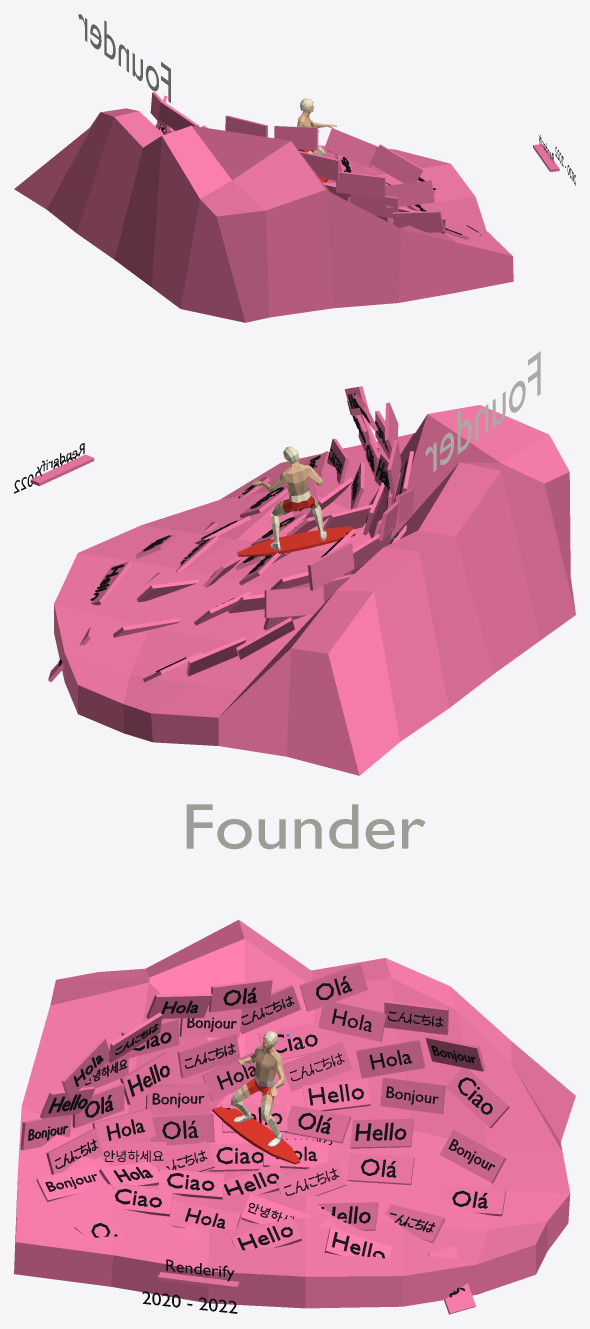
Rendered from preply.glb.
3 views of the same model, one above another, from view 1: azimuth 30°, elevation 25°; view 2: azimuth 150°, elevation 25°; view 3: azimuth 270°, elevation 25° (orthographic). The views are drawn at different scales.
Parts seen in each view (by area): view 1: Cube.001, Text.001, Text.020, Text.003, Cube.035, Cube.010, Cube.025, Text.027, Text.008, Cube.013, Text.009, male.004 (+1 smaller); view 2: Cube.001, male.004, Text.001, Cube.022, Cube, Text.024, Cube.024, Cube.017, Text.004, Cube.015, Text.002, Cube.005 (+2 smaller); view 3: Cube.001, Text.001, male.004, Text.022, Text.006, Text.002, Cube.004, Text.010, Text.013, Cube.020, Cube.009, Cube.017 (+45 smaller).
Part boxes in pixels (left/top/right/bottom): Cube.001: left=14, top=108, right=513, bottom=322; Text.001: left=78, top=14, right=170, bottom=102; Text.020: left=324, top=128, right=377, bottom=167; Text.003: left=369, top=144, right=423, bottom=183; Cube.035: left=336, top=171, right=385, bottom=198; Cube.010: left=385, top=180, right=434, bottom=208; Cube.025: left=392, top=211, right=444, bottom=232; Text.027: left=274, top=126, right=318, bottom=150; Text.008: left=349, top=194, right=398, bottom=218; Cube.013: left=299, top=151, right=339, bottom=180; Text.009: left=225, top=115, right=267, bottom=137; male.004: left=297, top=98, right=336, bottom=156; Cube.001: left=54, top=405, right=575, bottom=775; male.004: left=251, top=446, right=326, bottom=550; Text.001: left=425, top=351, right=540, bottom=471; Cube.022: left=264, top=586, right=323, bottom=617; Cube: left=237, top=526, right=355, bottom=556; Text.024: left=307, top=542, right=354, bottom=590; Cube.024: left=186, top=637, right=245, bottom=676; Cube.017: left=236, top=617, right=294, bottom=659; Text.004: left=323, top=504, right=372, bottom=529; Cube.015: left=90, top=561, right=131, bottom=605; Text.002: left=344, top=528, right=392, bottom=574; Cube.005: left=30, top=454, right=94, bottom=486; Cube.001: left=14, top=919, right=575, bottom=1308; Text.001: left=186, top=804, right=425, bottom=849; male.004: left=230, top=1031, right=284, bottom=1146; Text.022: left=282, top=1042, right=351, bottom=1091; Text.006: left=356, top=1040, right=425, bottom=1078; Text.002: left=318, top=1001, right=386, bottom=1041; Cube.004: left=380, top=1077, right=445, bottom=1114; Text.010: left=347, top=1153, right=414, bottom=1184; Text.013: left=299, top=963, right=367, bottom=1011; Cube.020: left=145, top=1083, right=209, bottom=1113; Cube.009: left=302, top=1078, right=370, bottom=1111; Cube.017: left=445, top=1067, right=509, bottom=1128.
Size of the model in its own units: 5.49 by 3.23 by 5.01.
